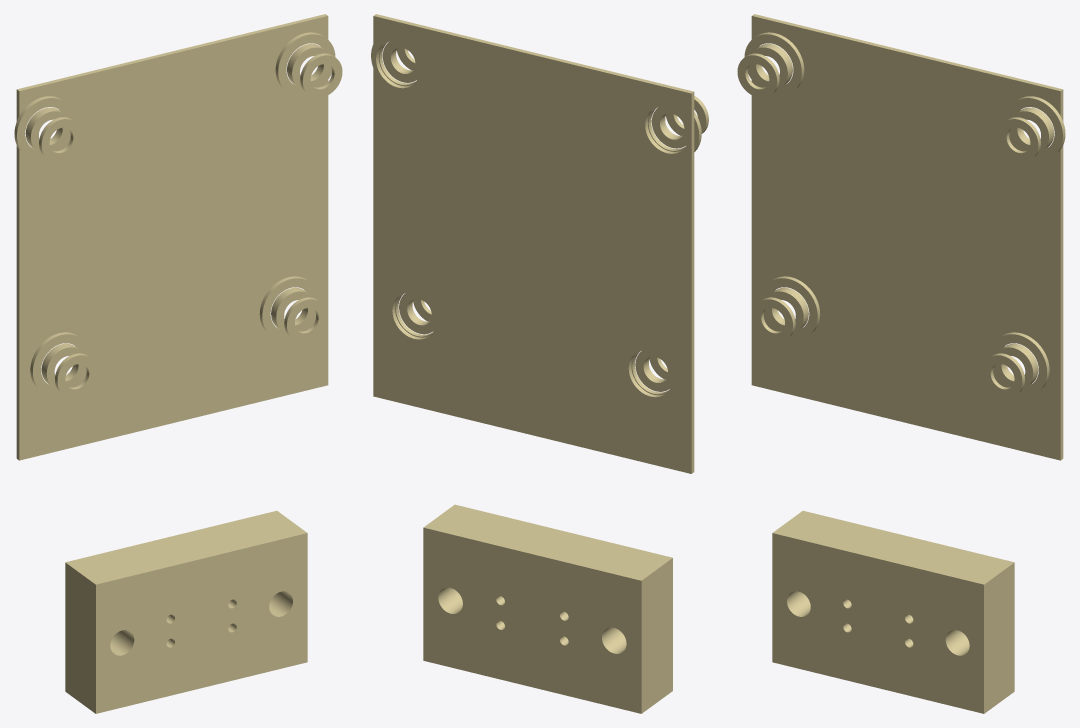
File: insulation_and_restraint.glb
3 views of the same model, side by side, from view 1: azimuth 30°, elevation 25°; view 2: azimuth 150°, elevation 25°; view 3: azimuth 330°, elevation 25° (orthographic). The views are drawn at different scales.
Parts seen in each view (by area): view 1: Nomex410_INS001, PEEK_clamp_left, PEEK_clamp_right, Clamp_silicone_liner, PEEK_support_3, PEEK_support_1, PEEK_support_0, PEEK_support_2, PEEK_top_washer_0, PEEK_top_washer_1, PEEK_top_washer_3, PEEK_top_washer_2; view 2: Nomex410_INS001, PEEK_clamp_left, PEEK_clamp_right, Clamp_silicone_liner, PEEK_support_1, PEEK_support_3, PEEK_support_2, PEEK_support_0, PEEK_top_washer_1; view 3: Nomex410_INS001, PEEK_clamp_right, PEEK_clamp_left, Clamp_silicone_liner, PEEK_support_1, PEEK_support_3, PEEK_support_2, PEEK_support_0, PEEK_top_washer_2, PEEK_top_washer_3, PEEK_top_washer_1, PEEK_top_washer_0.
Part boxes in pixels (x1,y1,x2,y2): Nomex410_INS001: (16,14,328,460); PEEK_clamp_left: (65,536,201,713); PEEK_clamp_right: (171,510,307,687); Clamp_silicone_liner: (153,571,250,675); PEEK_support_3: (275,32,335,95); PEEK_support_1: (14,96,74,159); PEEK_support_0: (30,332,90,395); PEEK_support_2: (259,276,319,339); PEEK_top_washer_0: (55,353,97,397); PEEK_top_washer_1: (39,117,81,161); PEEK_top_washer_3: (300,53,342,97); PEEK_top_washer_2: (284,297,326,341); Nomex410_INS001: (373,14,694,473); PEEK_clamp_left: (532,531,672,713); PEEK_clamp_right: (423,504,563,686); Clamp_silicone_liner: (482,567,582,674); PEEK_support_1: (648,107,701,151); PEEK_support_3: (371,41,419,86); PEEK_support_2: (395,292,435,337); PEEK_support_0: (631,350,672,395); PEEK_top_washer_1: (666,96,708,135); Nomex410_INS001: (751,14,1063,460); PEEK_clamp_right: (878,536,1014,713); PEEK_clamp_left: (772,510,908,687); Clamp_silicone_liner: (829,571,926,675); PEEK_support_1: (744,32,804,95); PEEK_support_3: (1005,96,1065,159); PEEK_support_2: (989,332,1049,395); PEEK_support_0: (760,276,820,339); PEEK_top_washer_2: (982,353,1024,397); PEEK_top_washer_3: (998,117,1040,161); PEEK_top_washer_1: (737,53,779,97); PEEK_top_washer_0: (753,297,795,341).
Size of the model in its own units: 36.1 by 66.5 by 6.
